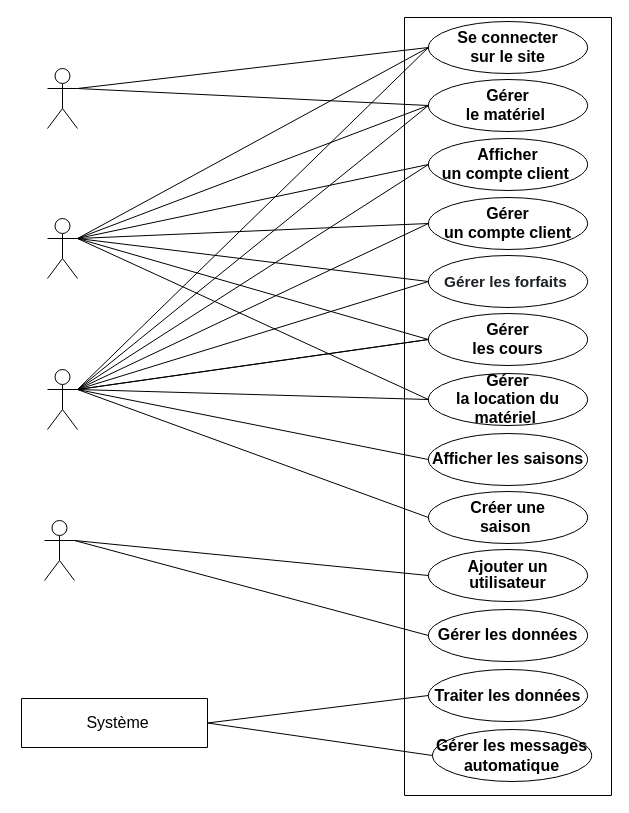
Image size: 629x813. Some labels were removed from this diagram. The shapes that lost their labels are listed below. From the top down, each one's box as (x1, y1, x2, y2) in pixels, then its label:
(46, 68, 78, 128): Garçon-de-plage
(46, 218, 78, 278): Moniteur
(46, 368, 78, 430): Propriétaire
(44, 520, 74, 580): Gestionnaire du système
